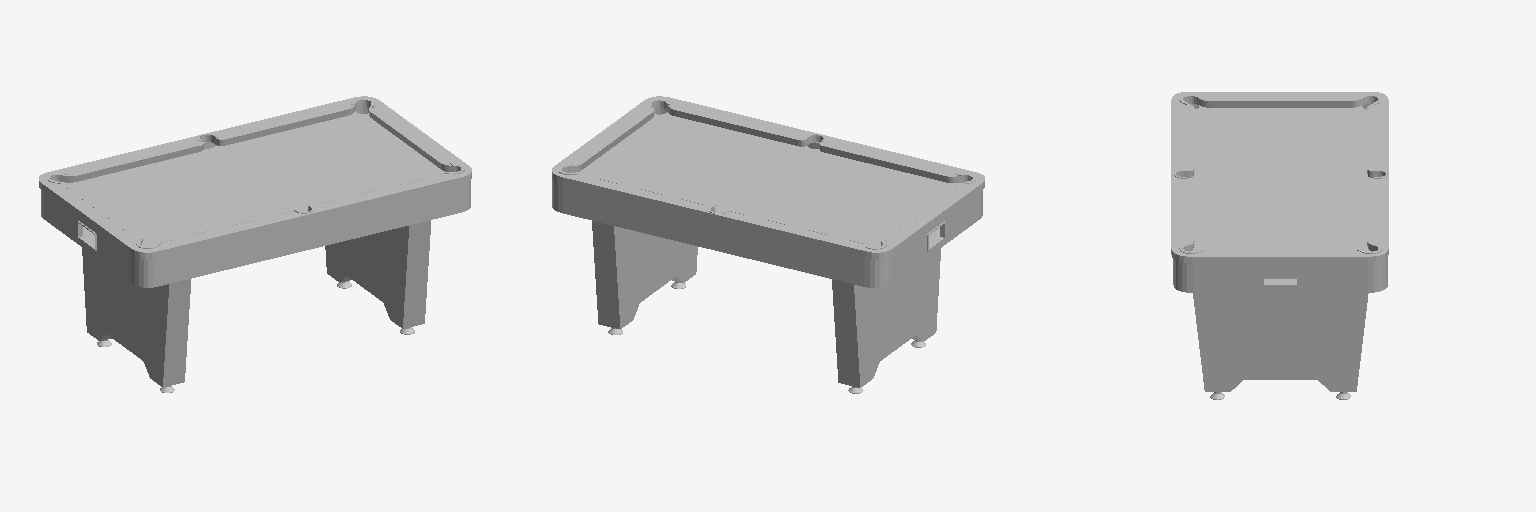
The model's file is Mesa.obj.
3 views of the same model, side by side, from view 1: azimuth 30°, elevation 25°; view 2: azimuth 150°, elevation 25°; view 3: azimuth 270°, elevation 25° (orthographic).
Visible parts, largest first — view 1: POOL_TABLE.011; view 2: POOL_TABLE.011; view 3: POOL_TABLE.011.
Part boxes in pixels (x1,y1,x2,y2): POOL_TABLE.011: (39,96,471,392); POOL_TABLE.011: (552,96,984,393); POOL_TABLE.011: (1171,92,1388,399).
Bounding box in the file's own units: 2.17 × 1 × 1.2.